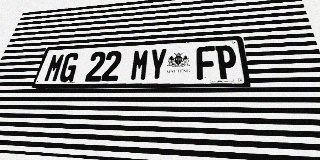2: (85, 51, 107, 82), (101, 50, 123, 81)
F: (196, 46, 217, 80)
G: (58, 52, 81, 82)
M: (43, 53, 66, 82), (130, 49, 150, 81)
P: (215, 45, 238, 79)
Y: (148, 48, 167, 81)
